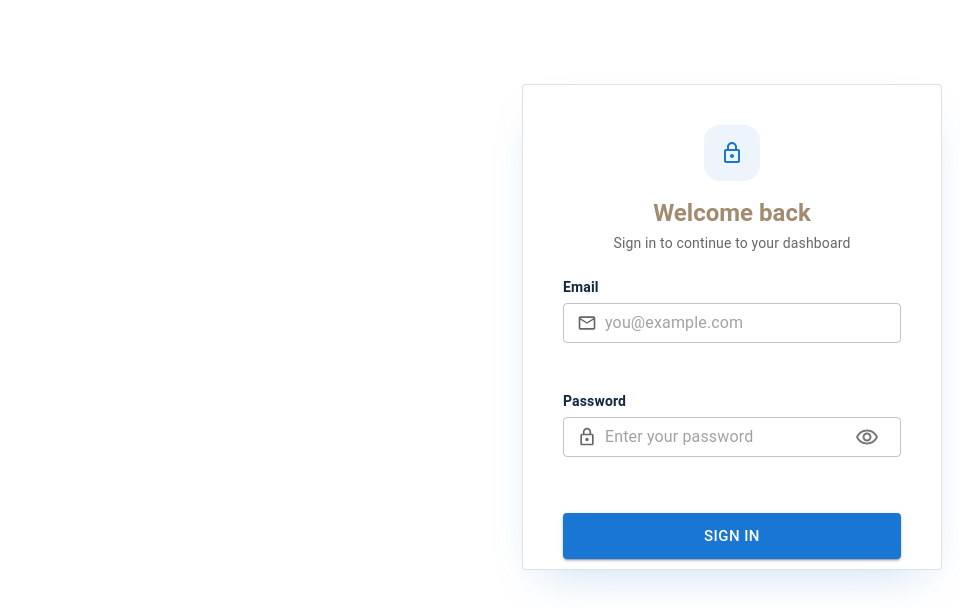
it: SignInPage › signs in through the admin API, stores the session and navigates
Type "admin@example.com" into the field with placeholder "you@example.com" at [753, 323], box left=605, top=303, right=901, bottom=343
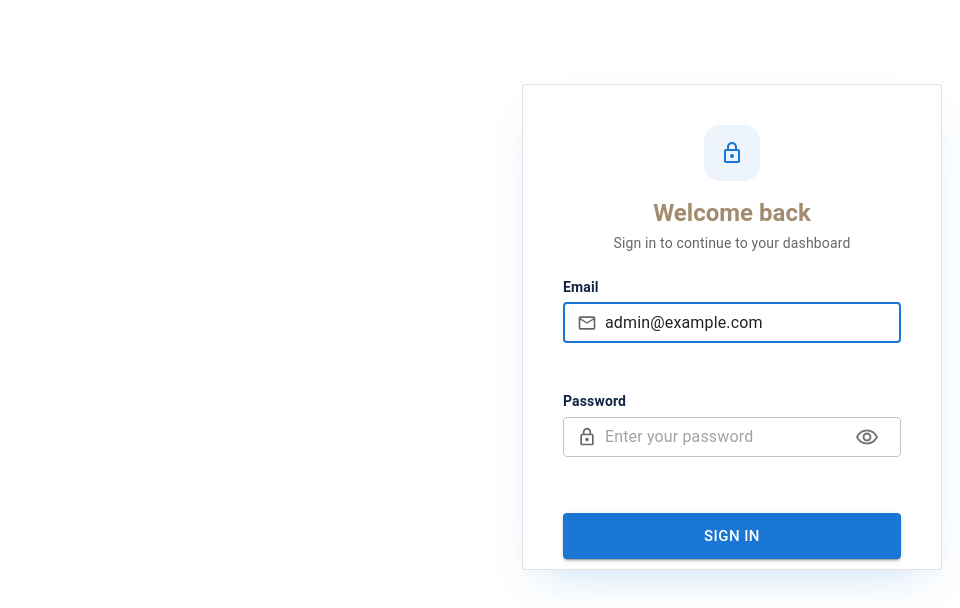
Type "secret-password" into the password field with placeholder "Enter your password" at [722, 437], box left=605, top=417, right=839, bottom=457
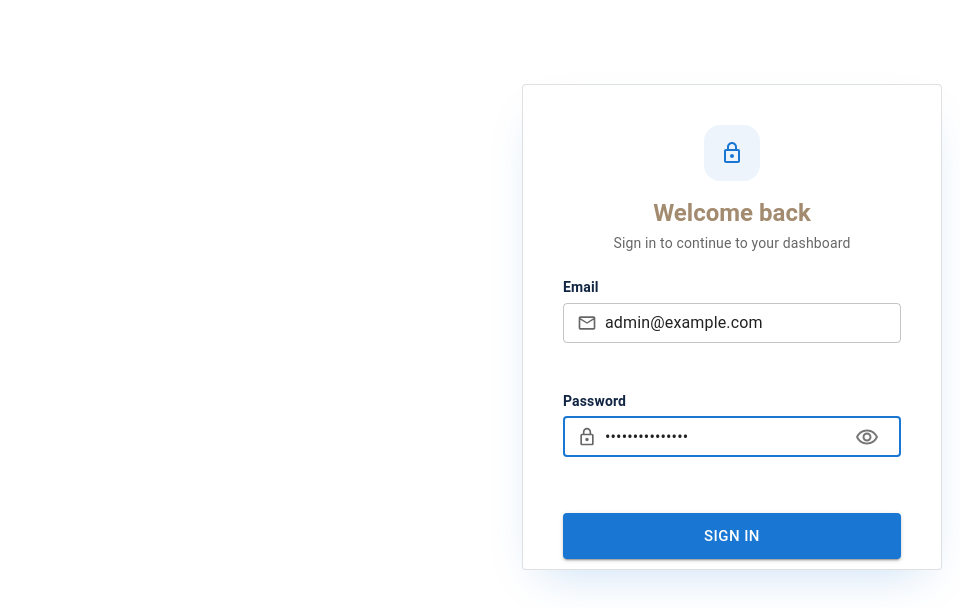
Click the button "Sign In" at [732, 536], box left=563, top=513, right=901, bottom=559
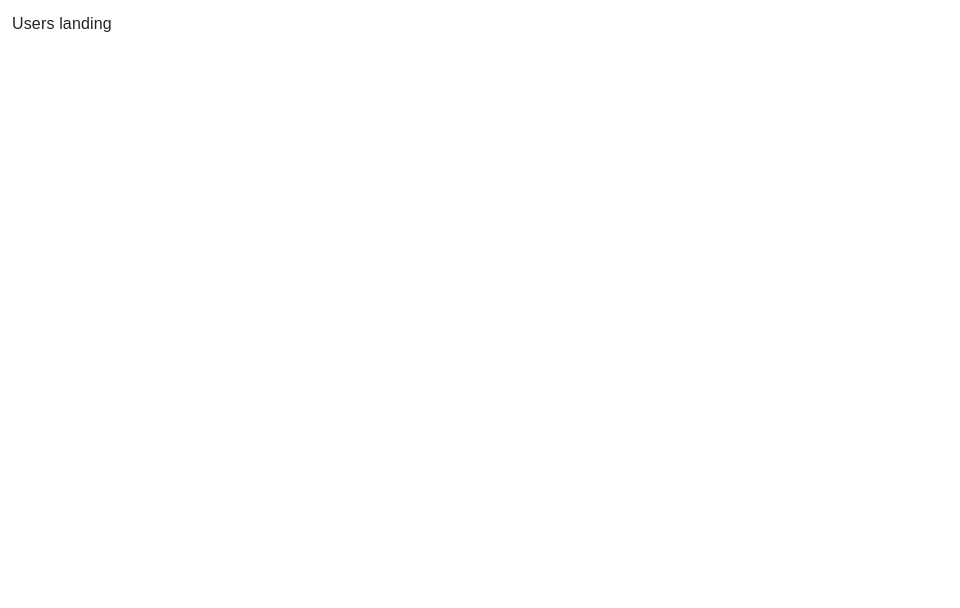
Expected: the text "Users landing" is shown, left=12, top=15, right=112, bottom=32
